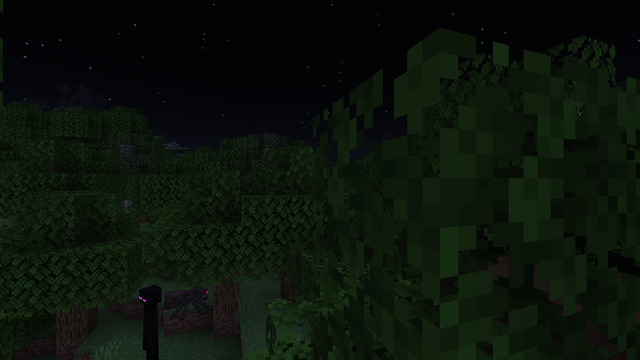araignees: (168, 284, 208, 319)
endermens: (137, 283, 161, 355)
